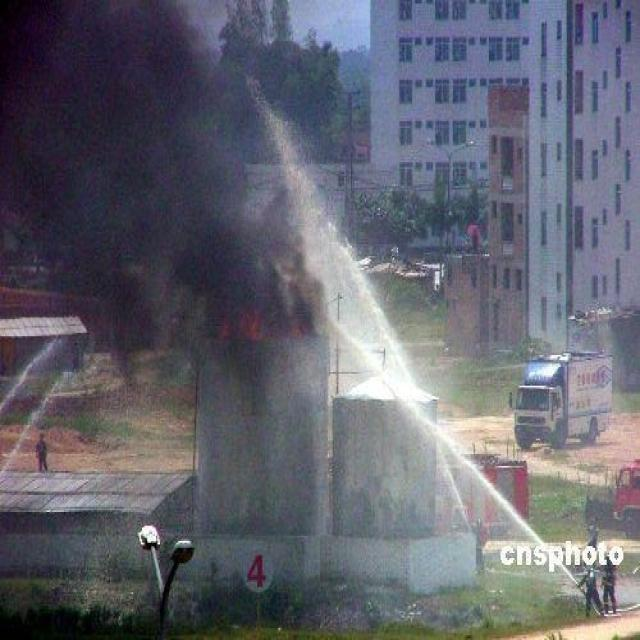Smoke: (1, 2, 324, 340)
